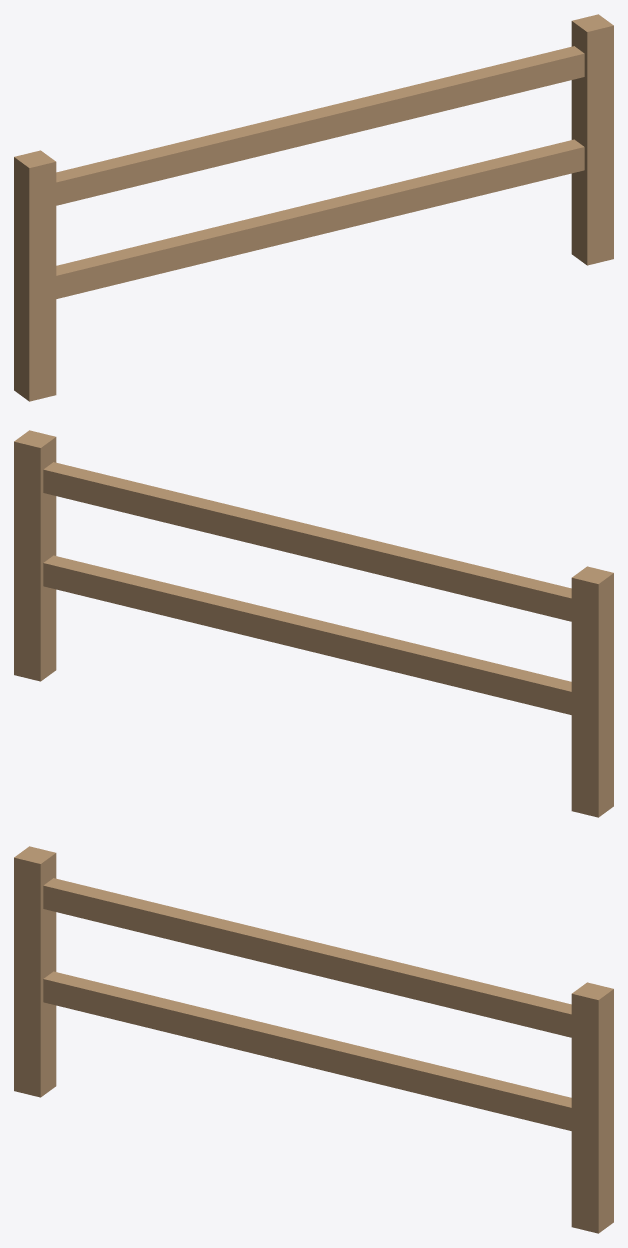
File: Prop_DS_Fence_Seg_03.glb
3 renders of one model, top to bottom at view 1: azimuth 30°, elevation 25°; view 2: azimuth 150°, elevation 25°; view 3: azimuth 330°, elevation 25°, orthographic.
Visible parts, largest first — view 1: Cube.002, Cube.003, Cube, Cube.001; view 2: Cube.002, Cube.003, Cube, Cube.001; view 3: Cube.002, Cube.003, Cube.001, Cube.
Part boxes in pixels (bbox=[...]): Cube.002: bbox=[56, 139, 584, 298]; Cube.003: bbox=[56, 46, 584, 205]; Cube: bbox=[14, 150, 56, 401]; Cube.001: bbox=[571, 14, 613, 265]; Cube.002: bbox=[43, 555, 571, 714]; Cube.003: bbox=[43, 462, 571, 621]; Cube: bbox=[571, 566, 613, 817]; Cube.001: bbox=[14, 430, 56, 681]; Cube.002: bbox=[43, 971, 571, 1130]; Cube.003: bbox=[43, 878, 571, 1037]; Cube.001: bbox=[571, 982, 613, 1233]; Cube: bbox=[14, 846, 56, 1097].
Bounding box in the file's own units: 2.62 × 1 × 0.12.
